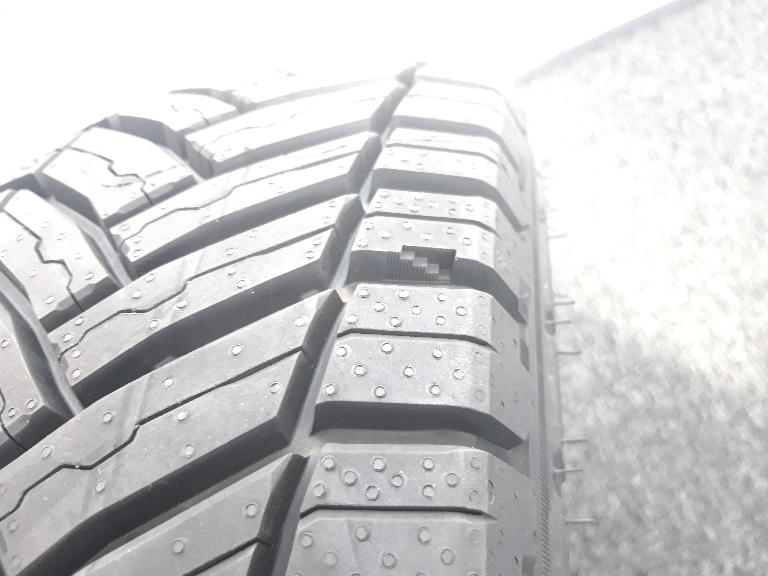temoin:100: (382, 244, 458, 285)
